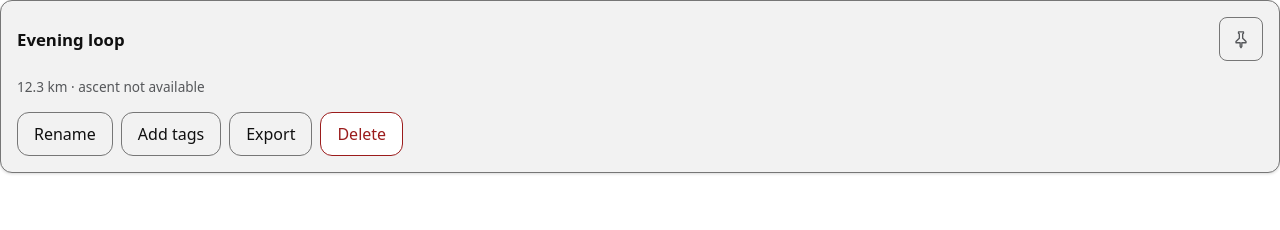
Test: RouteListItem › removes Export and Delete from the document while renaming, rather than merely disabling them
The width and height of the screenshot is (1280, 230).
Click the button "Rename" at (65, 134), box 17,112 -> 113,156
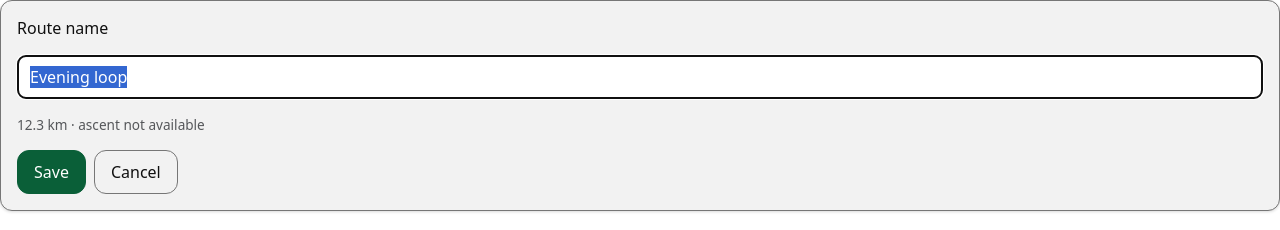
Now the button "Export" is gone
Now the button "Delete" is gone
